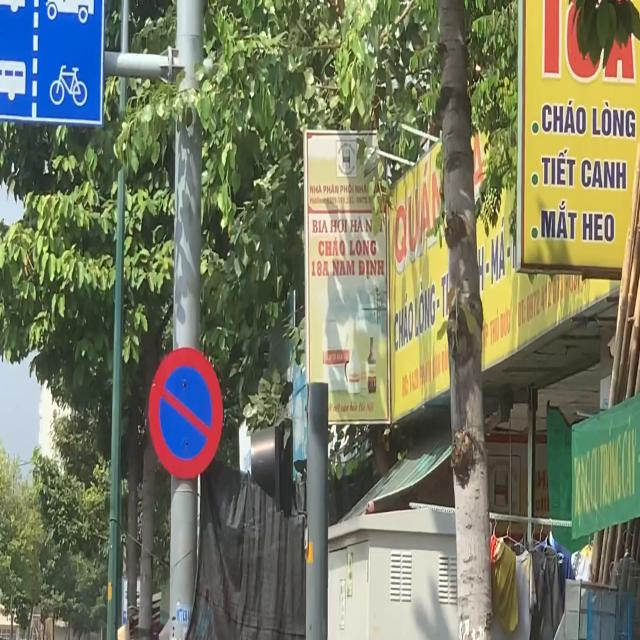Cam do: (147, 345, 224, 482)
